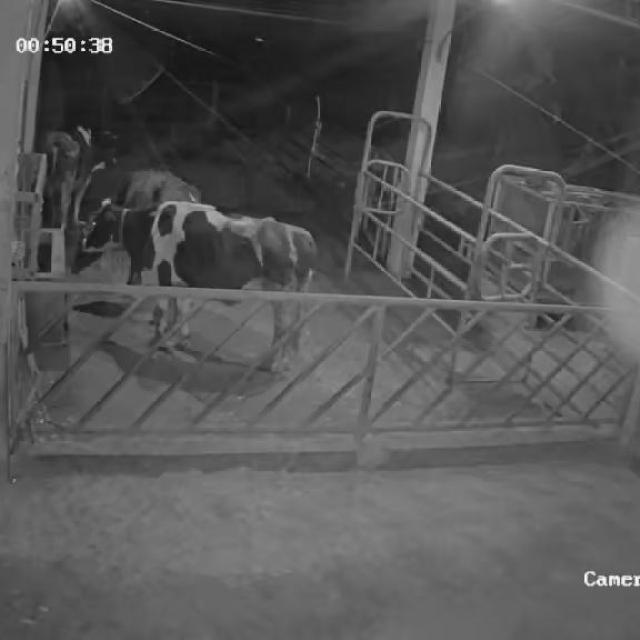standing: (79, 197, 318, 377), (36, 123, 121, 248)
